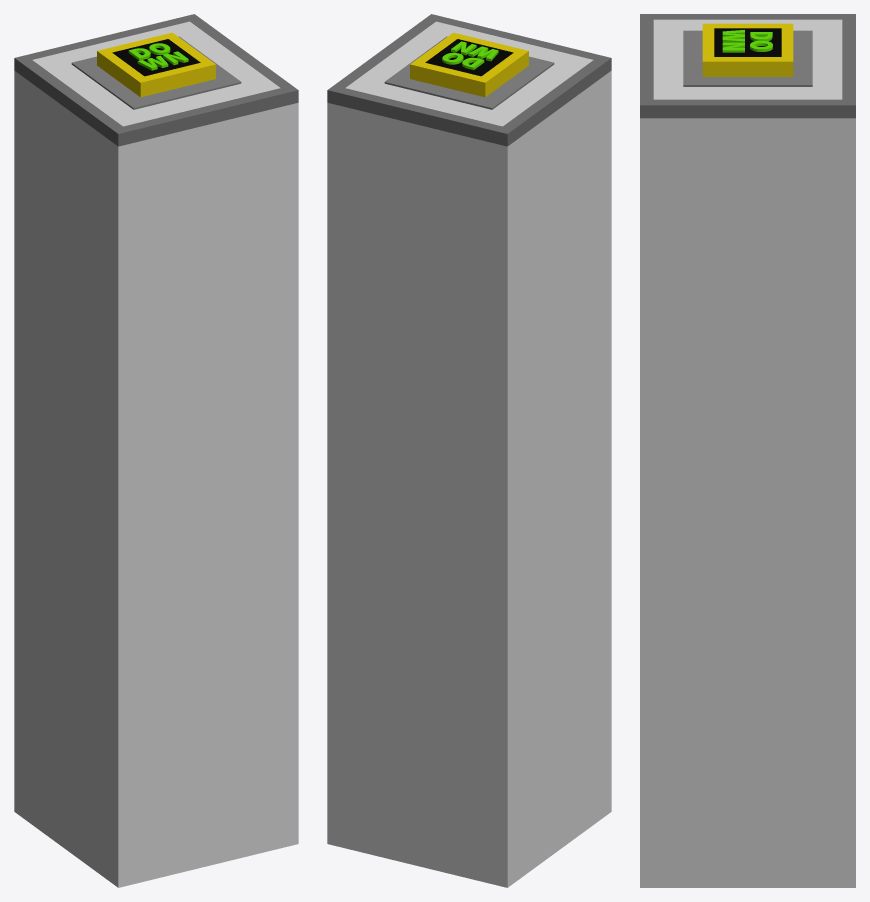
File: white_yellow_down.fbx
3 renders of one model, left to right at view 1: azimuth 30°, elevation 25°; view 2: azimuth 150°, elevation 25°; view 3: azimuth 270°, elevation 25°, orthographic. The views are drawn at different scales.
Parts seen in each view (by area): view 1: white_yellow_down; view 2: white_yellow_down; view 3: white_yellow_down.
Part boxes in pixels (x1,y1,x2,y2): white_yellow_down: (14, 14, 298, 887); white_yellow_down: (327, 14, 611, 887); white_yellow_down: (640, 14, 855, 887).
Bounding box in the file's own units: 1 × 4.1 × 1.
